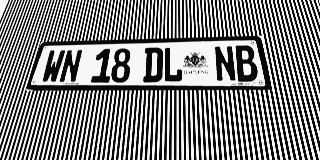1: (91, 49, 114, 83)
8: (110, 48, 132, 83)
B: (233, 45, 259, 82)
D: (143, 47, 163, 82)
L: (163, 47, 183, 82)
N: (213, 46, 237, 82), (58, 49, 83, 83)
W: (40, 50, 66, 83)
